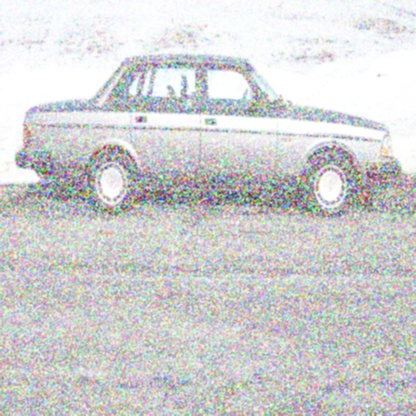Vehicle: (15, 53, 404, 217)
